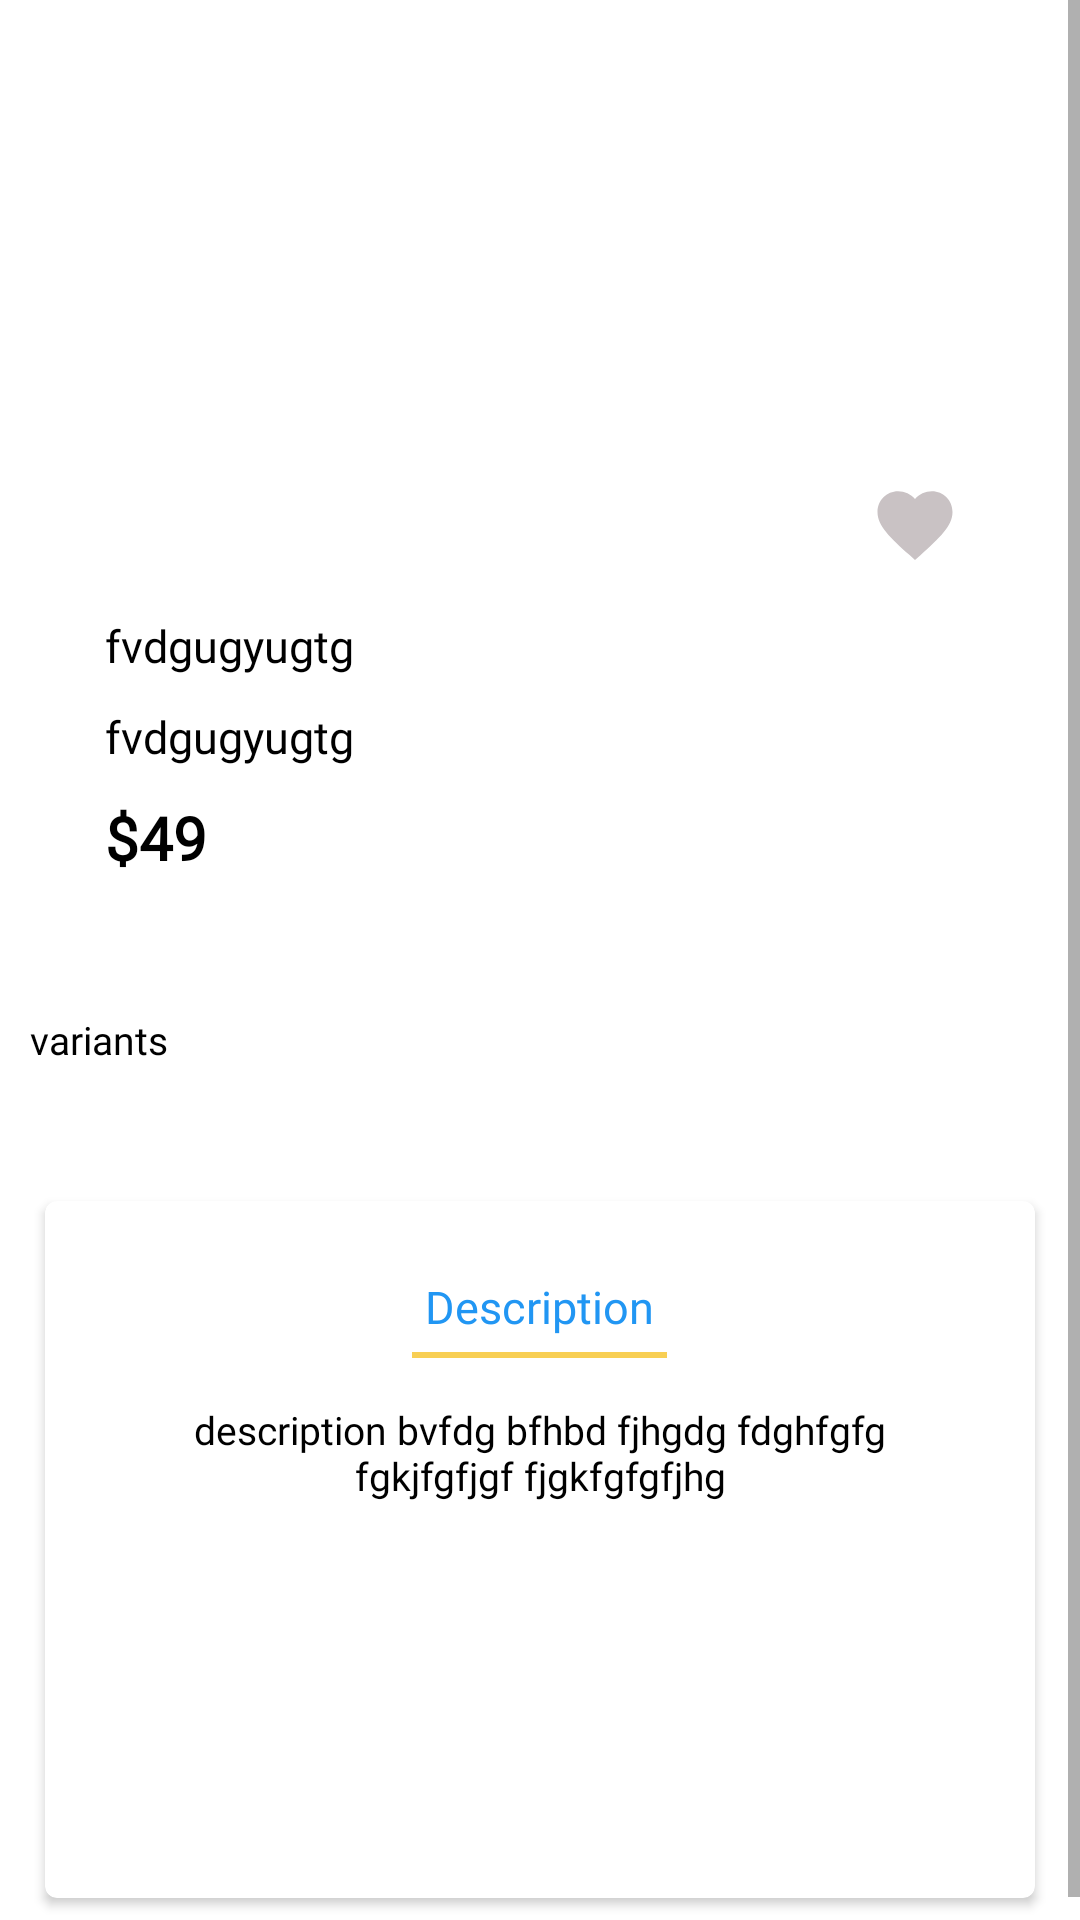

Named icons in this screenshot (1080w x 1920h) and their centers, [x,y]:
favorite: [915,525]
